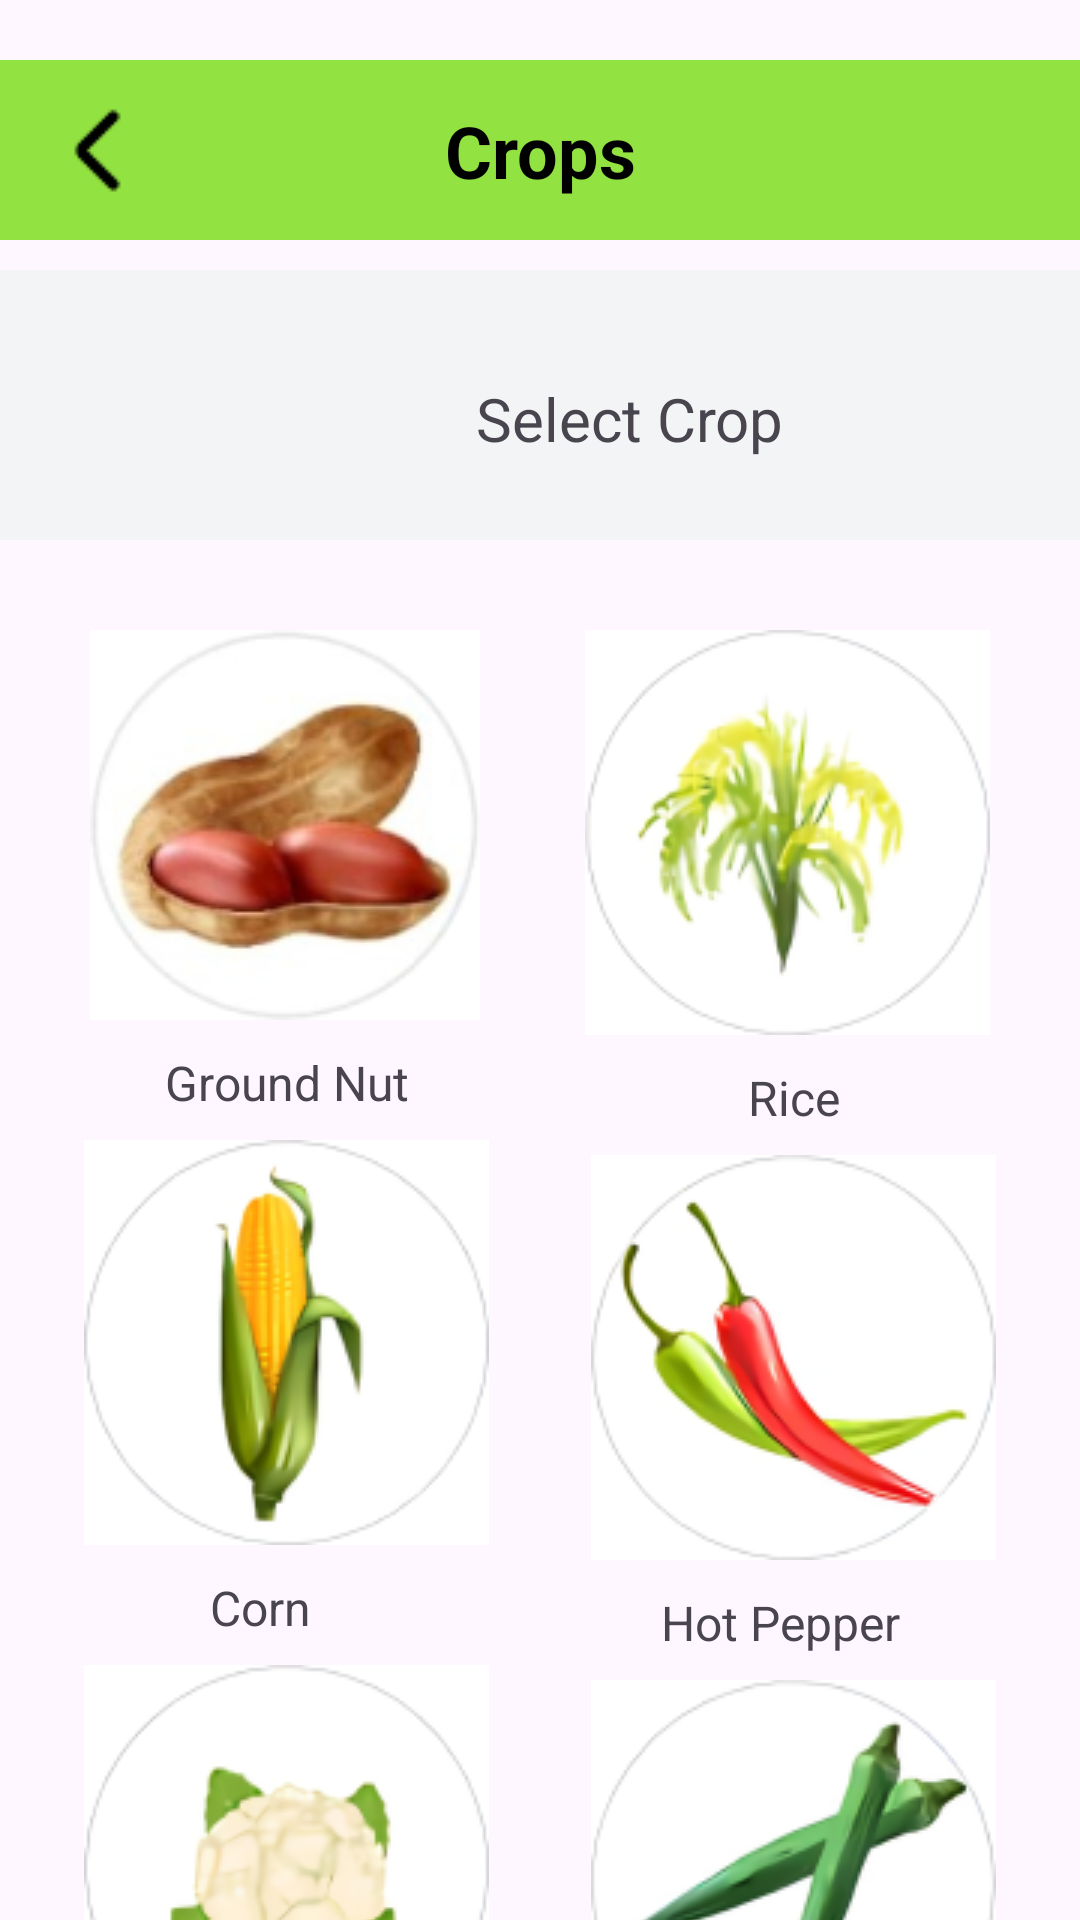

Screen size 1080×1920. Icon name, then its box in pixels as BBox(x1, y1, x2, y2):
back arrow: BBox(74, 109, 121, 192)
